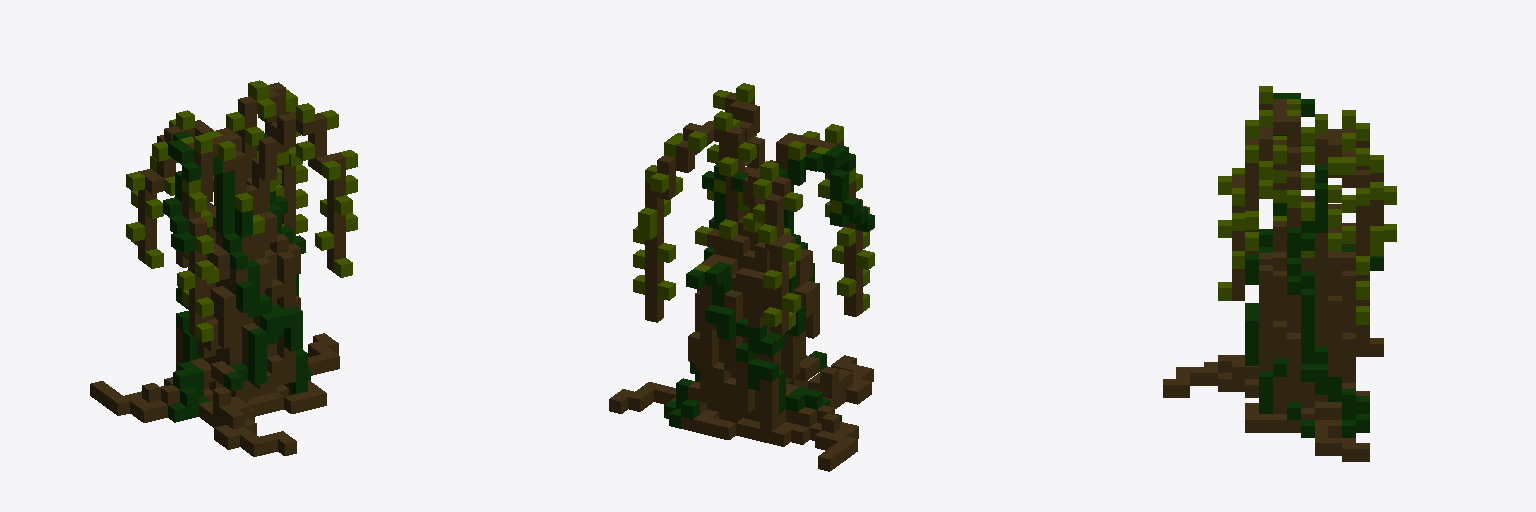
3 views of the same model, side by side, from view 1: azimuth 30°, elevation 25°; view 2: azimuth 150°, elevation 25°; view 3: azimuth 270°, elevation 25° (orthographic).
Parts seen in each view (by area): view 1: swampTree2; view 2: swampTree2; view 3: swampTree2.
Part boxes in pixels (bbox=[...]): swampTree2: bbox=[90, 80, 357, 456]; swampTree2: bbox=[609, 83, 874, 471]; swampTree2: bbox=[1163, 86, 1396, 461].
Size of the model in its own units: 19 by 24 by 17.
Materials: 1 (1 with a texture image).